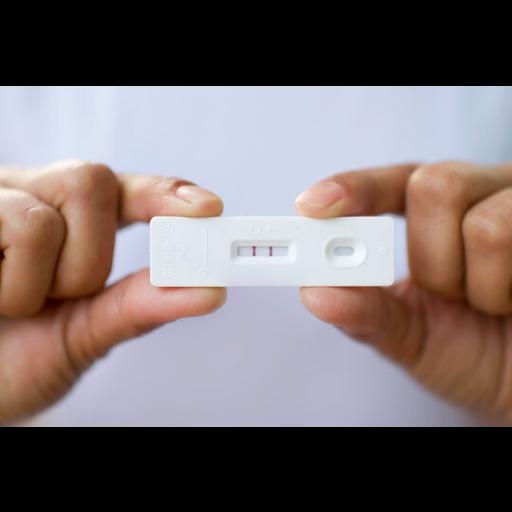Pos: (152, 214, 394, 284)
